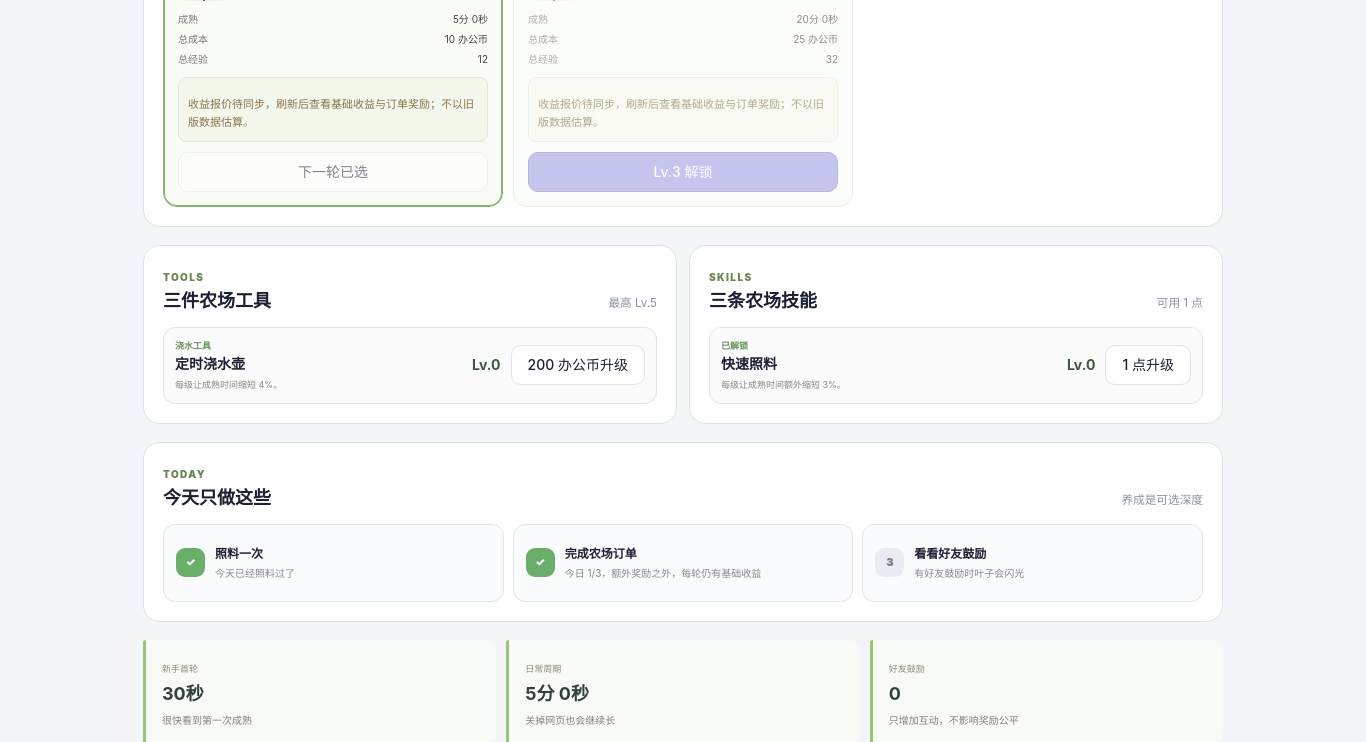
Test: CommunityFarmPage growth system › sends versioned tool upgrades and refreshes the server state
(page scrolled)
Step 1. Click the button "200 办公币升级" → (578, 365), box [511,345,645,385]
(page scrolled)
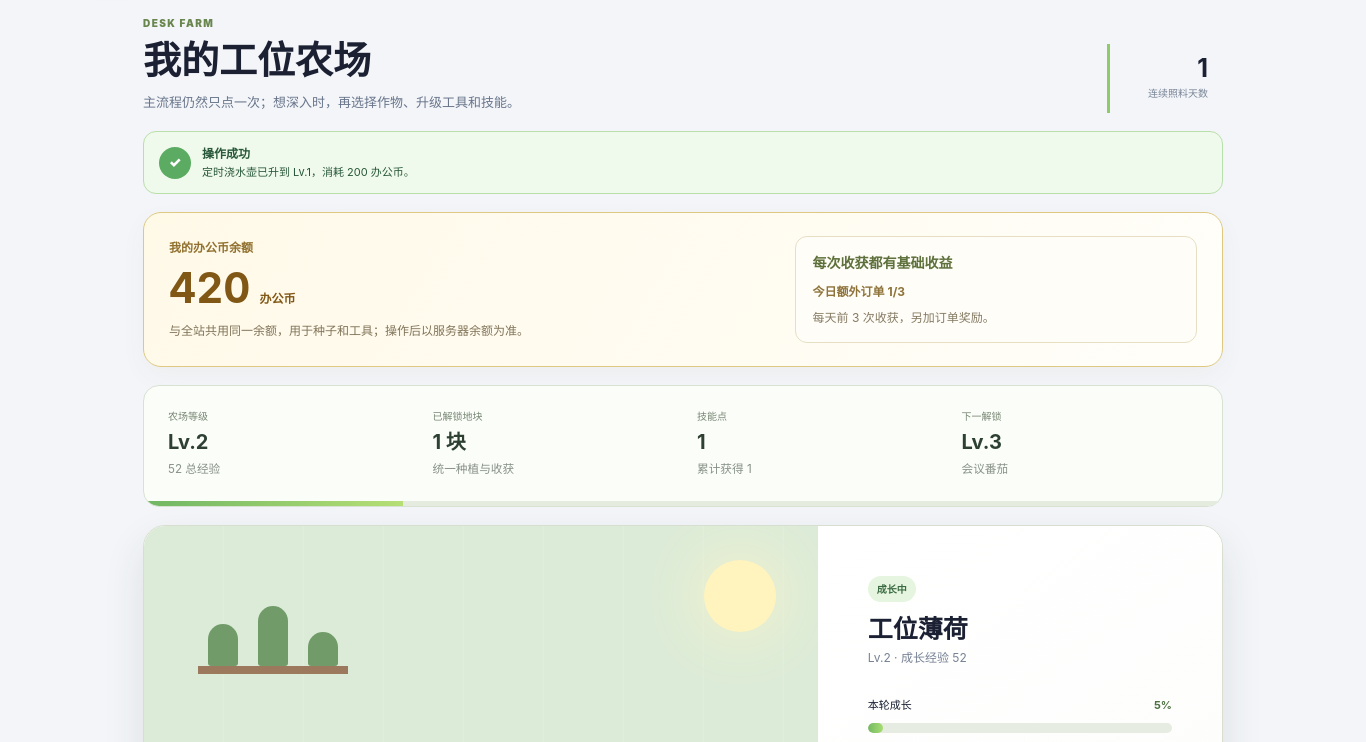
Check: the text "定时浇水壶已升到 Lv.1，消耗 200 办公币。" is shown, box [202,164,415,182]
